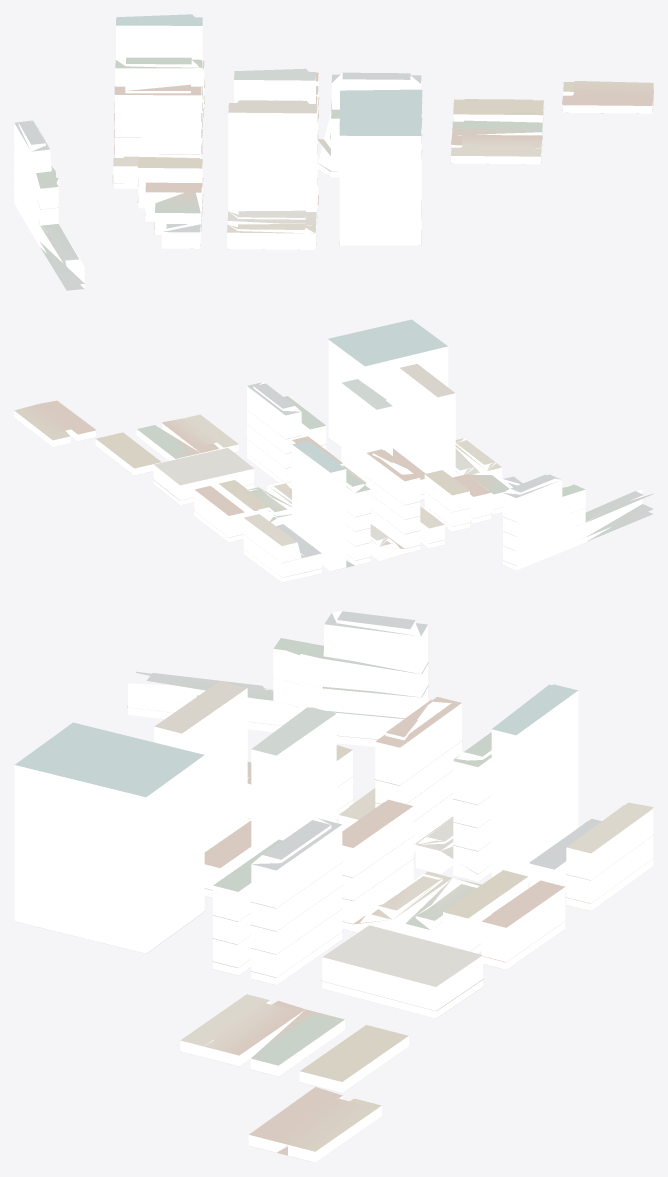
Rendered from buildings-5_-2-coarse.glb.
3 views of the same model, one above another, from view 1: azimuth 30°, elevation 25°; view 2: azimuth 150°, elevation 25°; view 3: azimuth 270°, elevation 25° (orthographic). The views are drawn at different scales.
Visible parts, largest first — view 1: block_5_-2_roof, block_5_-2_office, block_5_-2_residential; view 2: block_5_-2_residential, block_5_-2_roof, block_5_-2_office; view 3: block_5_-2_residential, block_5_-2_office, block_5_-2_roof.
Part boxes in pixels (x1=…): block_5_-2_roof: x1=14, y1=14, x2=653, y2=290; block_5_-2_office: x1=116, y1=25, x2=421, y2=245; block_5_-2_residential: x1=14, y1=57, x2=652, y2=288; block_5_-2_residential: x1=14, y1=382, x2=642, y2=582; block_5_-2_roof: x1=14, y1=319, x2=653, y2=582; block_5_-2_office: x1=292, y1=340, x2=455, y2=571; block_5_-2_residential: x1=128, y1=611, x2=653, y2=1162; block_5_-2_office: x1=14, y1=688, x2=578, y2=953; block_5_-2_roof: x1=14, y1=611, x2=653, y2=1162.
Size of the model in its own units: 336 by 59.21 by 201.
